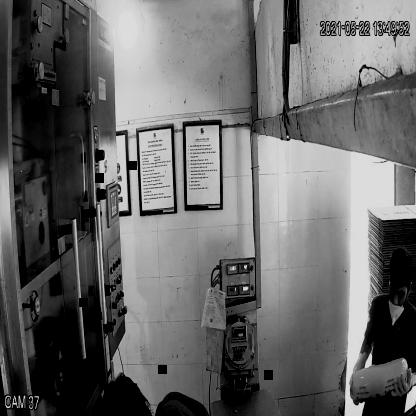no_goggles: (386, 281, 410, 302)
